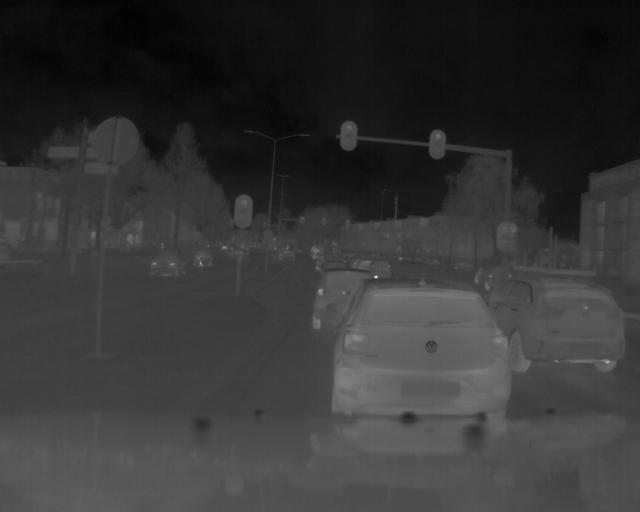car: (330, 277, 513, 418), (486, 274, 626, 373), (309, 269, 377, 331), (145, 247, 189, 279), (472, 264, 514, 292)
